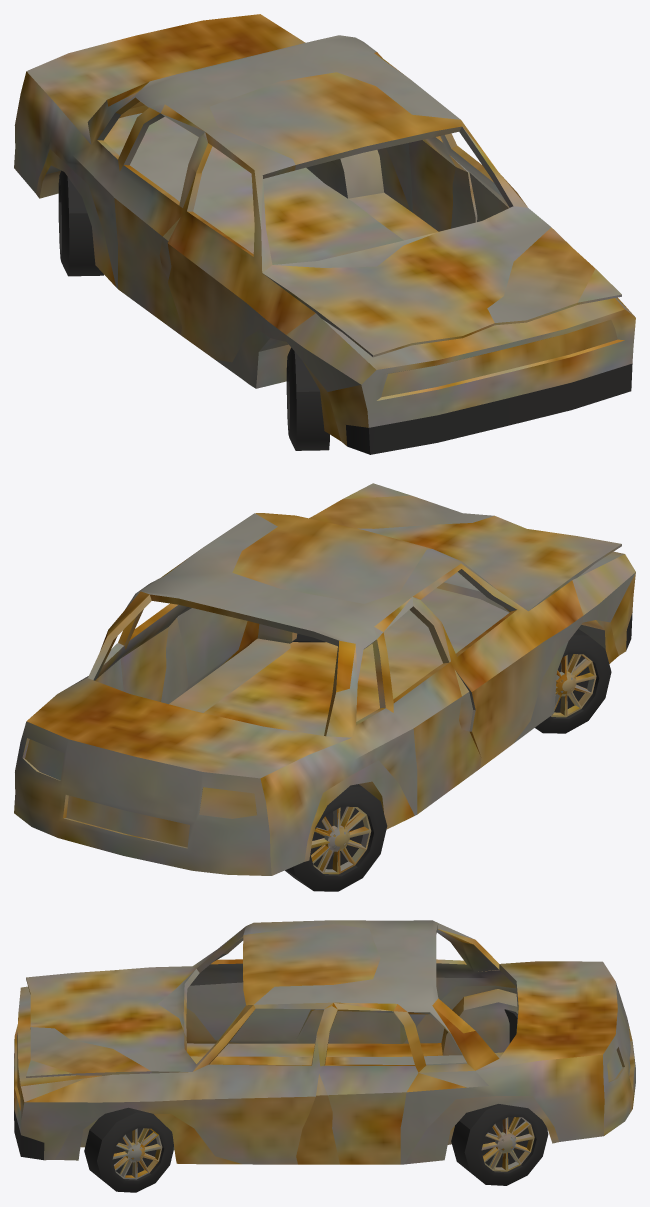
The model's file is wreck_broken.glb.
The picture shows the model from 3 angles, top to bottom: view 1: azimuth 30°, elevation 25°; view 2: azimuth 150°, elevation 25°; view 3: azimuth 270°, elevation 25°; orthographic projection. The views are drawn at different scales.
Parts seen in each view (by area): view 1: Debris_BrokenCar; view 2: Debris_BrokenCar; view 3: Debris_BrokenCar.
Part boxes in pixels (<box>): Debris_BrokenCar: <box>14,14,635,454</box>; Debris_BrokenCar: <box>14,483,635,891</box>; Debris_BrokenCar: <box>14,920,635,1192</box>.
Size of the model in its own units: 2.64 by 1.76 by 5.49.
Materials: 2 (1 with a texture image).
